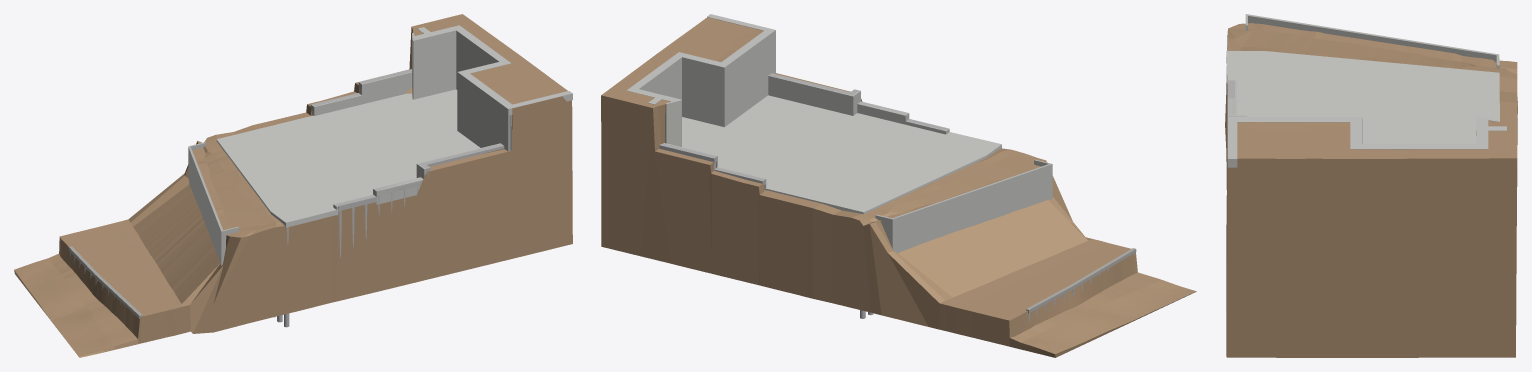
File: slab.glb
The picture shows the model from 3 angles, left to right: view 1: azimuth 30°, elevation 25°; view 2: azimuth 150°, elevation 25°; view 3: azimuth 270°, elevation 25°; orthographic projection. The views are drawn at different scales.
Visible parts, largest first — view 1: Terrain 07 - SPW2+3.007, Slab.001, Shotcrete--SP4.002, Retaining wall.003, CB1-RL10.010, CB1-RL9.035, Cube.202, CB1-RL9.028, CB1-RL9.031; view 2: Terrain 07 - SPW2+3.007, Slab.001, Shotcrete--SP4.002, Retaining wall.003, CB1-RL9.034, Cube.202, CB1-RL9.035; view 3: Terrain 07 - SPW2+3.007, Slab.001, Shotcrete--SP4.002, Retaining wall.003.
Part boxes in pixels (<box>): Terrain 07 - SPW2+3.007: <box>14,14,572,357</box>; Slab.001: <box>216,89,480,227</box>; Shotcrete--SP4.002: <box>412,25,572,151</box>; Retaining wall.003: <box>188,142,238,265</box>; CB1-RL10.010: <box>361,72,411,104</box>; CB1-RL9.035: <box>373,177,423,204</box>; Cube.202: <box>68,246,142,318</box>; CB1-RL9.028: <box>419,144,504,173</box>; CB1-RL9.031: <box>313,95,361,115</box>; Terrain 07 - SPW2+3.007: <box>601,17,1196,357</box>; Slab.001: <box>682,95,1001,214</box>; Shotcrete--SP4.002: <box>626,14,775,146</box>; Retaining wall.003: <box>875,159,1052,252</box>; CB1-RL9.034: <box>768,75,860,115</box>; Cube.202: <box>1026,248,1136,313</box>; CB1-RL9.035: <box>857,101,909,124</box>; Terrain 07 - SPW2+3.007: <box>1225,23,1517,357</box>; Slab.001: <box>1226,51,1499,144</box>; Shotcrete--SP4.002: <box>1227,116,1506,167</box>; Retaining wall.003: <box>1245,14,1499,68</box>.
Size of the model in its own units: 45.82 by 14.76 by 17.99.
